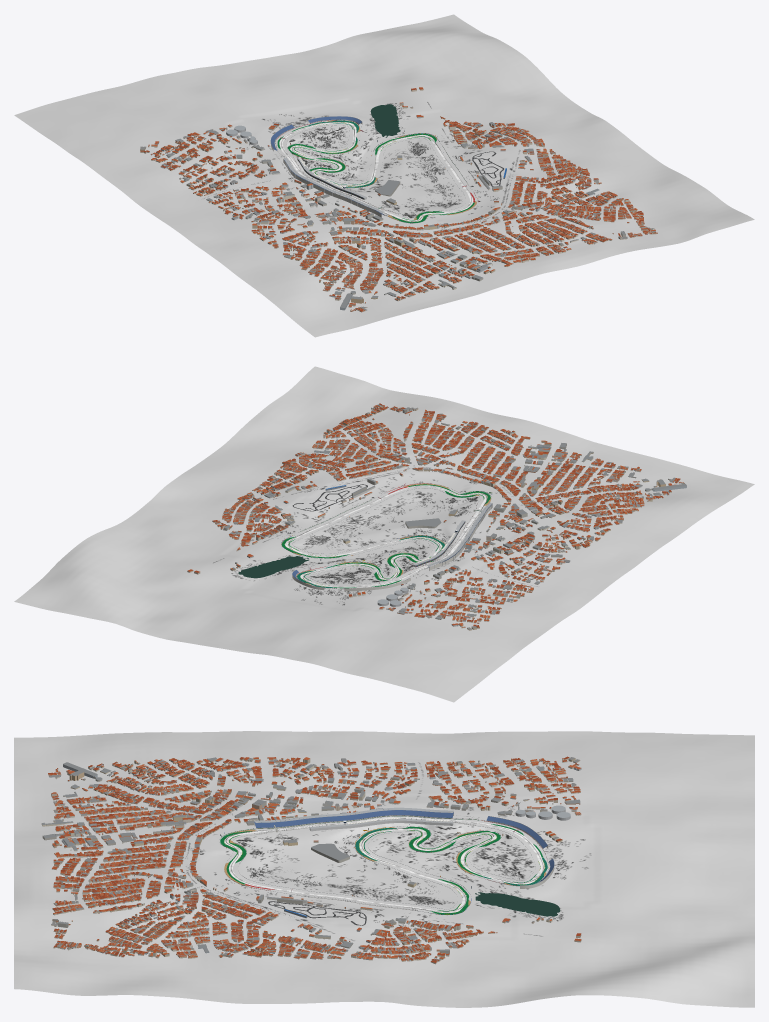
The model's file is cenario.glb.
The picture shows the model from 3 angles, top to bottom: view 1: azimuth 30°, elevation 25°; view 2: azimuth 150°, elevation 25°; view 3: azimuth 270°, elevation 25°; orthographic projection. The views are drawn at different scales.
Visible parts, largest first — view 1: o0_s0 (×7), o-1_s0; view 2: o0_s0 (×7), o-1_s0; view 3: o0_s0 (×9), o-1_s0 (×3), o0_s1.
Part boxes in pixels (x1=…): o0_s0 (×7): x1=14, y1=14, x2=754, y2=337; o-1_s0: x1=289, y1=126, x2=369, y2=166; o0_s0 (×7): x1=14, y1=366, x2=754, y2=702; o-1_s0: x1=310, y1=555, x2=413, y2=583; o0_s0 (×9): x1=14, y1=731, x2=754, y2=1007; o-1_s0 (×3): x1=226, y1=834, x2=532, y2=884; o0_s1: x1=254, y1=807, x2=453, y2=822.
Size of what is drawn, in the model's own units: 2076 by 102 by 2460.
Materials: 104 (61 with a texture image).
